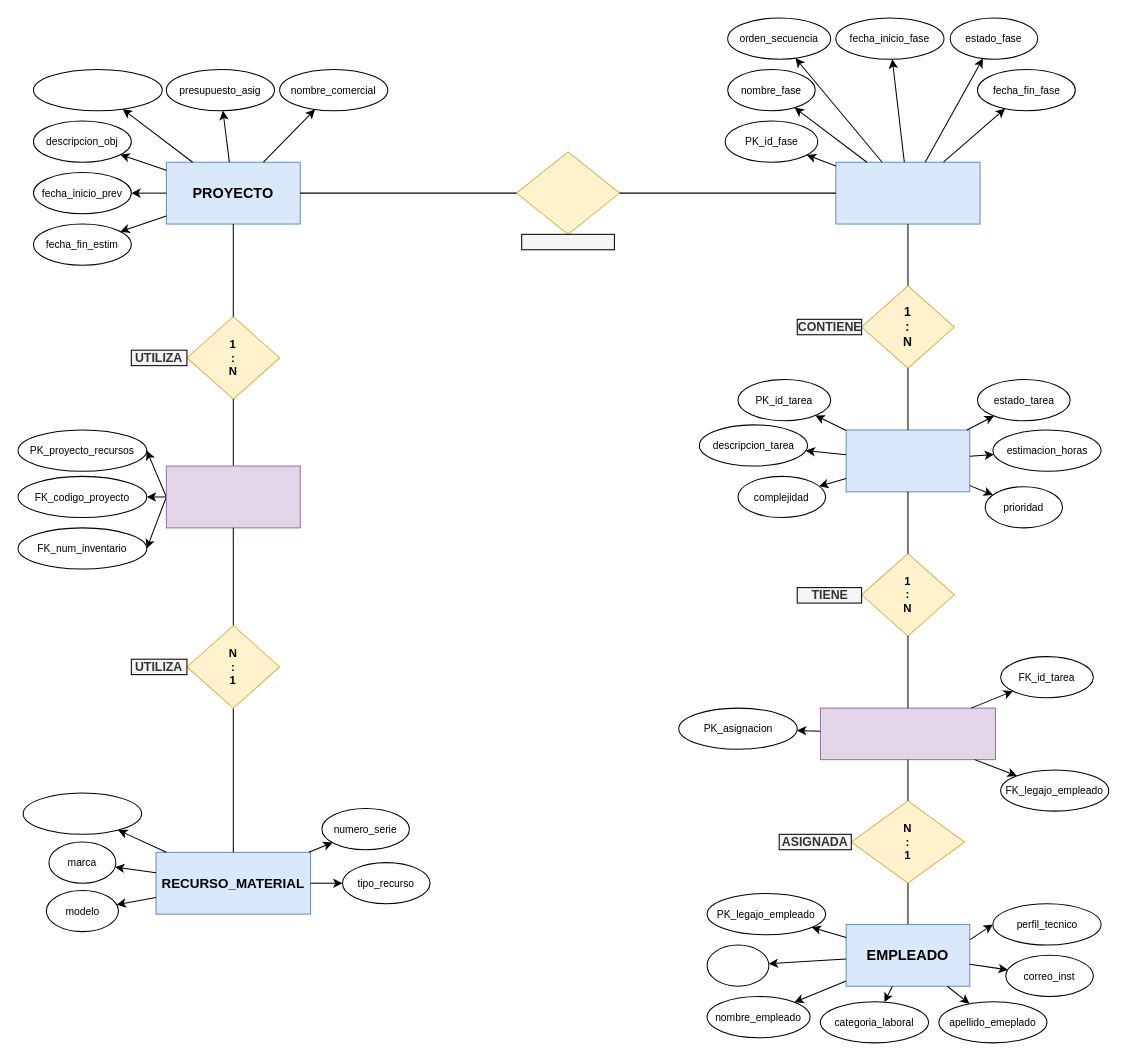
Image size: 1127x1061. Some labels were removed from this diagram. The centre of each missing label's shape, as x and y in pixels:
"1:N" goes at pixel 568 192.
"ASIGNACION_TAREA_ EMPLEADO" goes at pixel 907 733.
"COMPONE_DE" goes at pixel 567 241.
"DNI" goes at pixel 737 965.
"FASE_PROYECTO" goes at pixel 907 192.
"PK_codigo_proyecto" goes at pixel 97 89.
"PK_num_inventario" goes at pixel 82 813.
"PROYECTO_ RECURSOS" goes at pixel 232 496.
"TAREA" goes at pixel 907 460.
